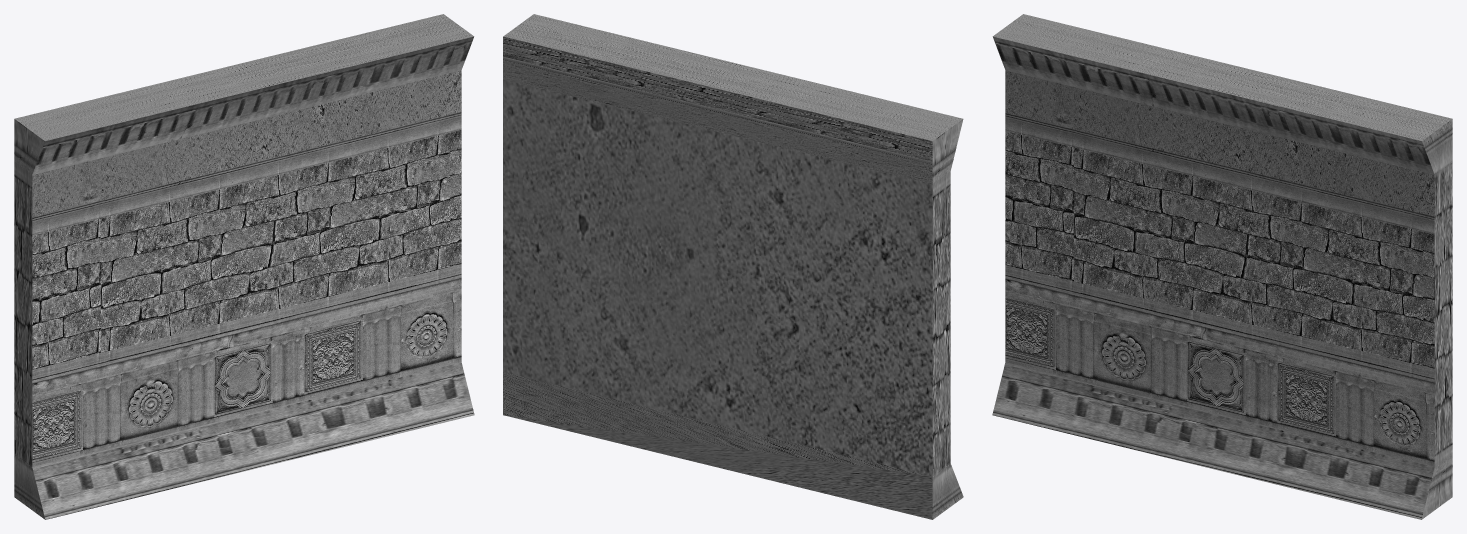
File: Wall.fbx
The picture shows the model from 3 angles, left to right: view 1: azimuth 30°, elevation 25°; view 2: azimuth 150°, elevation 25°; view 3: azimuth 330°, elevation 25°; orthographic projection.
Visible parts, largest first — view 1: pCube1; view 2: pCube1; view 3: pCube1.
Part boxes in pixels (box(x1,y1,x2,y2)): pCube1: box(14, 14, 474, 519); pCube1: box(503, 14, 963, 519); pCube1: box(992, 14, 1452, 519).
Bounding box in the file's own units: 7.15 × 6.02 × 0.8964.
